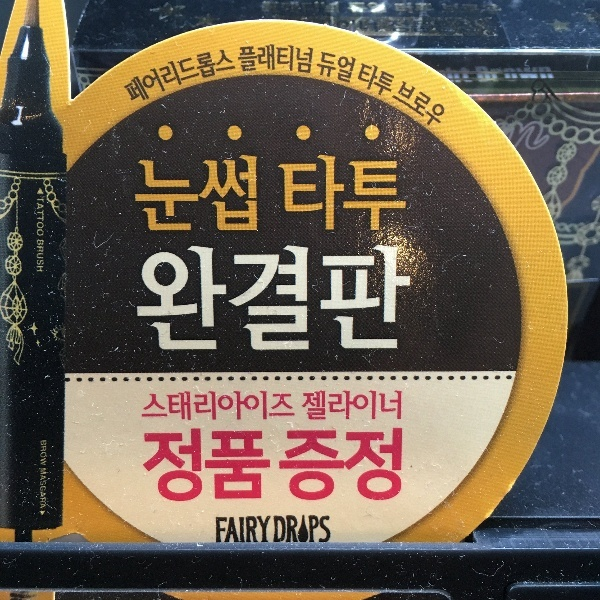text: (145, 245, 160, 353), (161, 245, 176, 353), (177, 245, 192, 353), (193, 245, 208, 353), (209, 245, 224, 353), (225, 245, 240, 353), (241, 245, 256, 353), (257, 245, 272, 353), (273, 245, 288, 353), (289, 245, 304, 353), (305, 245, 320, 353), (321, 245, 336, 353), (337, 245, 352, 353), (353, 245, 368, 353), (369, 245, 384, 353), (385, 245, 400, 353), (401, 245, 413, 353), (241, 155, 257, 234), (145, 155, 160, 234), (161, 155, 176, 234), (177, 155, 192, 234), (193, 155, 208, 234), (209, 155, 224, 234), (225, 155, 240, 234), (289, 155, 304, 234), (305, 155, 320, 234), (321, 155, 336, 234), (337, 155, 352, 234), (353, 155, 368, 234), (369, 155, 384, 234), (385, 155, 400, 234), (369, 57, 384, 131), (385, 57, 400, 131), (401, 57, 416, 131), (417, 57, 432, 131), (433, 57, 448, 131), (145, 428, 160, 501), (161, 428, 176, 501), (177, 428, 192, 501), (193, 428, 208, 501), (209, 428, 224, 501), (225, 428, 240, 501), (241, 428, 256, 501), (257, 428, 272, 501), (273, 428, 288, 501), (289, 428, 304, 501), (305, 428, 320, 501), (321, 428, 336, 501), (337, 428, 352, 501), (353, 428, 368, 501), (369, 428, 384, 501), (385, 428, 400, 501), (129, 45, 144, 109), (145, 45, 160, 109), (161, 45, 176, 109), (177, 45, 192, 109), (193, 45, 208, 109), (209, 45, 224, 109), (225, 45, 237, 109), (135, 155, 144, 234), (279, 155, 288, 234), (321, 52, 336, 84), (337, 52, 352, 84), (401, 155, 407, 234), (161, 391, 176, 422), (177, 391, 192, 422), (193, 391, 208, 422), (209, 391, 224, 422), (225, 391, 240, 422), (241, 391, 256, 422), (257, 391, 272, 422), (273, 391, 288, 422), (305, 390, 320, 421), (321, 390, 336, 421), (337, 390, 352, 421), (353, 390, 368, 421), (369, 390, 384, 421), (385, 390, 400, 421), (241, 44, 256, 74), (257, 44, 272, 74), (273, 44, 288, 74), (289, 44, 304, 74), (513, 120, 528, 150), (529, 120, 544, 150), (37, 197, 48, 237), (225, 515, 240, 544), (241, 515, 256, 544), (257, 515, 272, 544), (273, 515, 288, 544), (289, 515, 304, 544), (305, 515, 320, 544), (499, 120, 512, 150), (37, 240, 48, 272), (123, 45, 128, 109), (150, 391, 160, 422), (305, 44, 315, 74), (449, 65, 464, 85), (465, 65, 480, 85), (481, 65, 496, 85), (497, 65, 512, 85), (513, 65, 528, 85), (529, 65, 544, 85), (364, 57, 368, 131), (41, 468, 48, 510), (321, 515, 330, 544), (289, 391, 297, 422), (216, 515, 224, 544), (545, 65, 556, 85), (41, 441, 48, 466), (440, 65, 448, 85), (401, 428, 403, 501), (353, 52, 357, 84), (545, 120, 549, 150), (238, 44, 240, 74), (401, 390, 402, 421)
